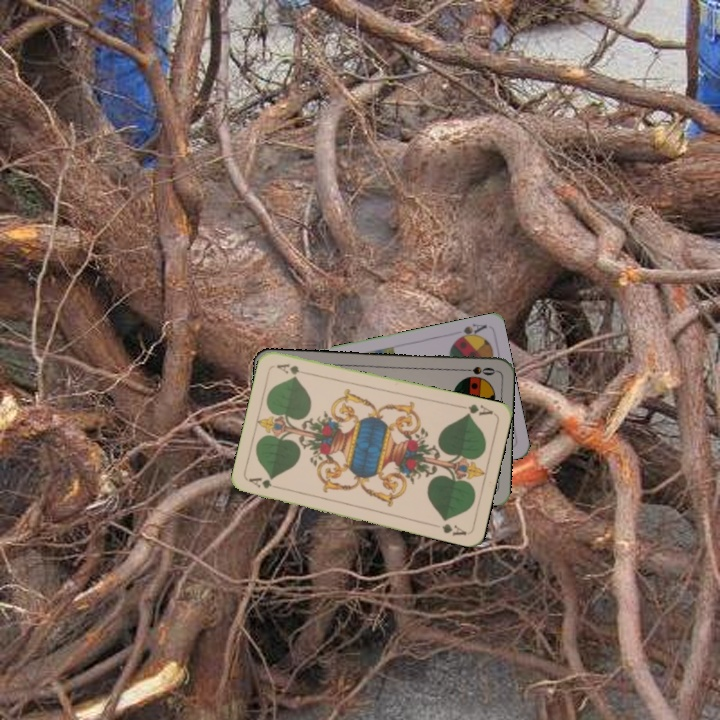GA: (456, 400, 496, 419), (245, 473, 285, 492)
SA: (450, 320, 489, 344)
SO: (457, 363, 498, 378)
